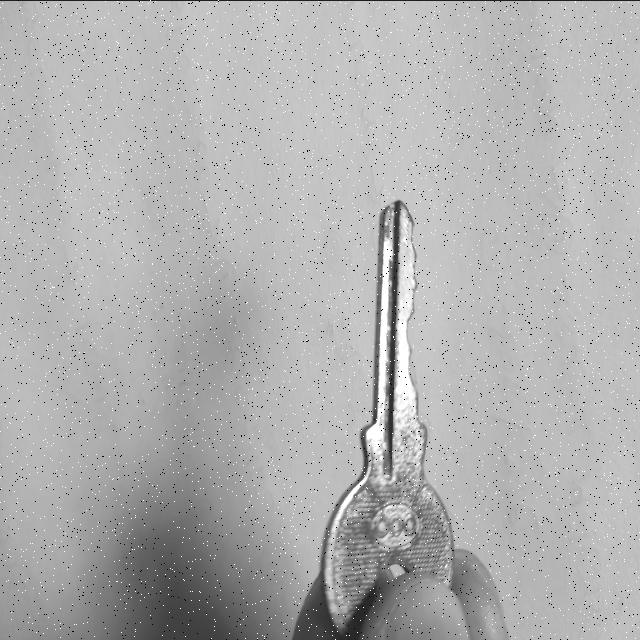key: (322, 200, 455, 635)
